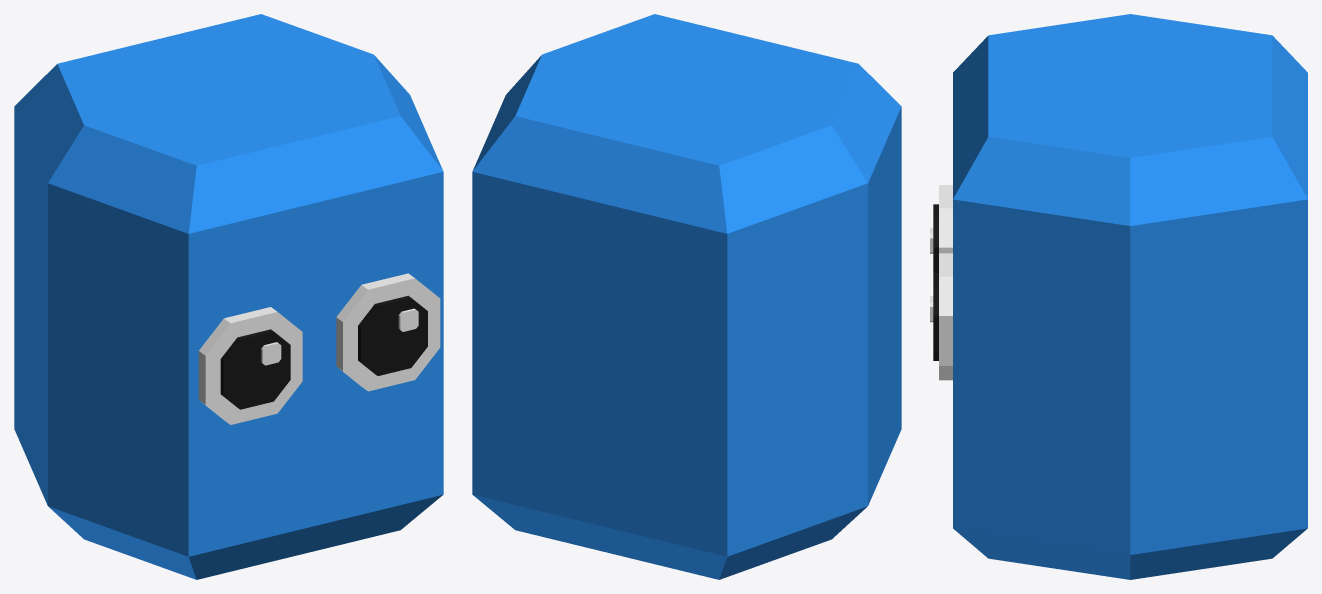
File: Hexy.fbx
3 views of the same model, side by side, from view 1: azimuth 30°, elevation 25°; view 2: azimuth 150°, elevation 25°; view 3: azimuth 270°, elevation 25° (orthographic).
Visible parts, largest first — view 1: Hexy, Hexy_Eyes, Hexy_Pupils; view 2: Hexy; view 3: Hexy, Hexy_Eyes, Hexy_Pupils.
Part boxes in pixels (x1,y1,x2,y2): Hexy: (14,14,443,579); Hexy_Eyes: (198,273,440,424); Hexy_Pupils: (220,295,427,409); Hexy: (472,14,901,579); Hexy: (953,14,1307,579); Hexy_Eyes: (930,185,952,380); Hexy_Pupils: (933,204,938,360).
Size of the model in its own units: 2.16 by 2.36 by 1.92.
